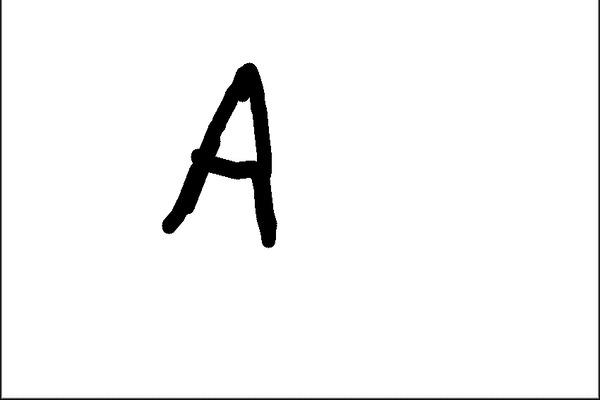A: (141, 47, 289, 256)
